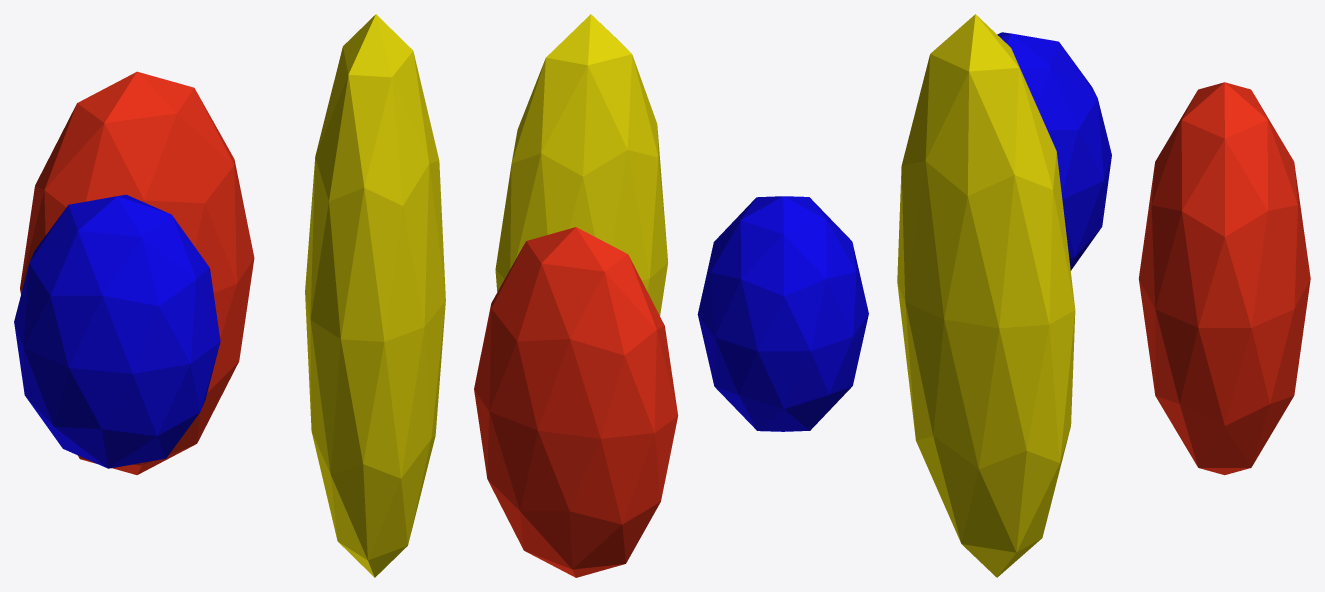
File: asset.gltf
3 renders of one model, left to right at view 1: azimuth 30°, elevation 25°; view 2: azimuth 150°, elevation 25°; view 3: azimuth 270°, elevation 25°, orthographic. The views are drawn at different scales.
Visible parts, largest first — view 1: Icosphere.002, Icosphere.003, Icosphere.001; view 2: Icosphere.001, Icosphere.003, Icosphere.002; view 3: Icosphere.002, Icosphere.001, Icosphere.003.
Part boxes in pixels (x1,y1,x2,y2): Icosphere.002: [305, 14, 445, 577]; Icosphere.003: [14, 194, 220, 468]; Icosphere.001: [20, 71, 254, 474]; Icosphere.001: [474, 227, 678, 577]; Icosphere.003: [697, 196, 868, 431]; Icosphere.002: [495, 14, 668, 315]; Icosphere.002: [897, 14, 1075, 577]; Icosphere.001: [1138, 82, 1310, 475]; Icosphere.003: [997, 32, 1111, 270].
Size of the model in its own units: 4.59 by 6.24 by 4.18.
